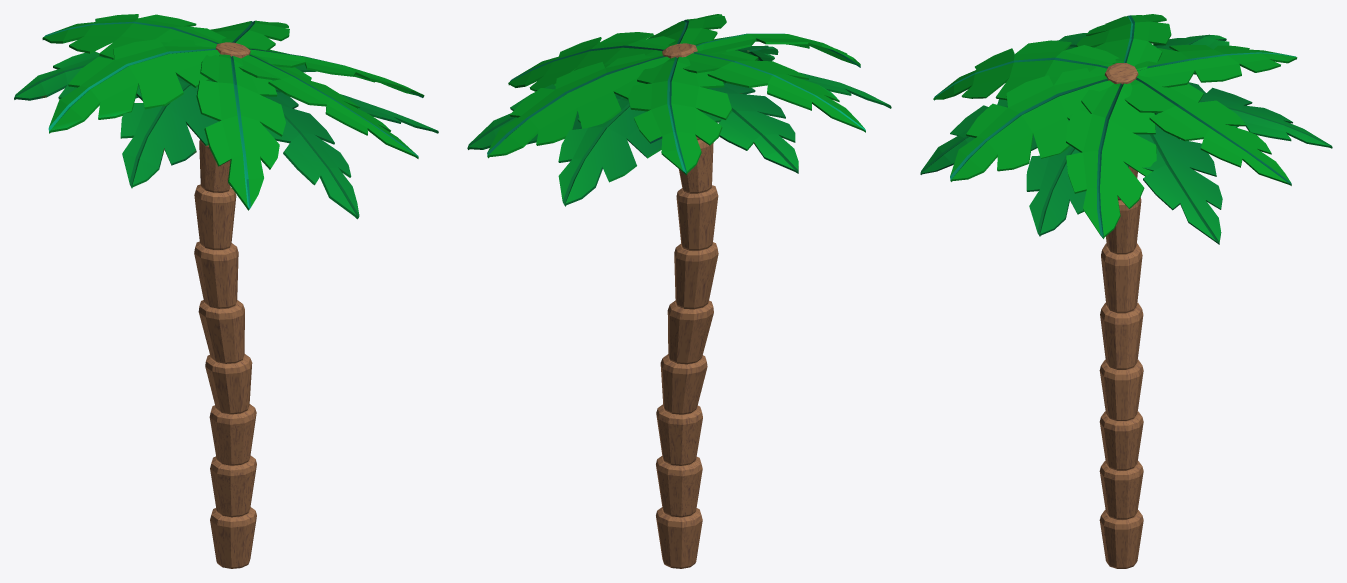
The model's file is SM_Env_Tree_Palm.fbx.
The picture shows the model from 3 angles, left to right: view 1: azimuth 30°, elevation 25°; view 2: azimuth 150°, elevation 25°; view 3: azimuth 270°, elevation 25°; orthographic projection. The views are drawn at different scales.
Visible parts, largest first — view 1: SM_Env_Tree_Palm; view 2: SM_Env_Tree_Palm; view 3: SM_Env_Tree_Palm.
Part boxes in pixels (left/top/right/bottom): SM_Env_Tree_Palm: left=14, top=14, right=438, bottom=568; SM_Env_Tree_Palm: left=467, top=14, right=891, bottom=568; SM_Env_Tree_Palm: left=920, top=14, right=1332, bottom=568.
Bounding box in the file's own units: 4.59 × 6.24 × 4.69.
Materials: 2 (2 with a texture image).
